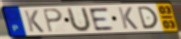D: (136, 5, 160, 30)
E: (88, 7, 116, 32)
K: (23, 10, 46, 34), (117, 7, 140, 31)
P: (41, 8, 64, 34)
U: (66, 7, 93, 34)
